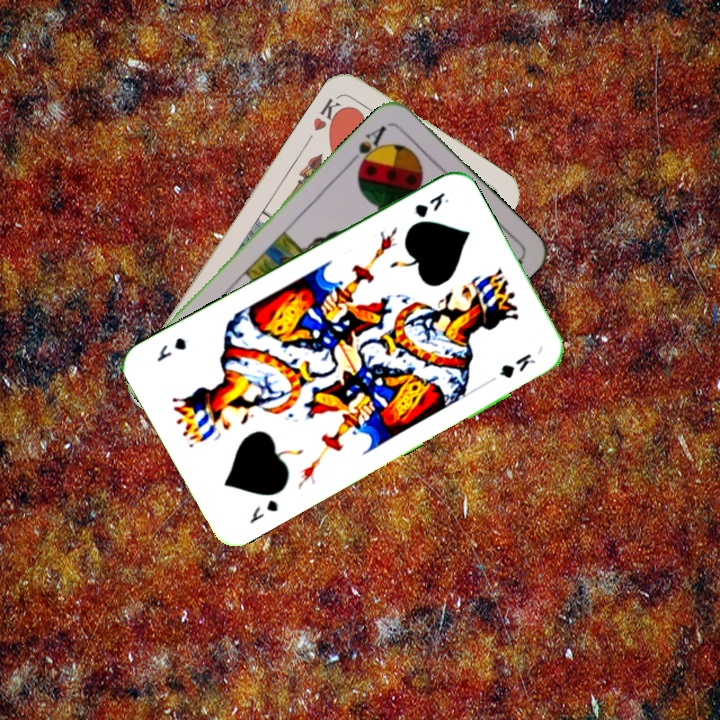GK: (408, 188, 452, 221), (245, 495, 281, 527)
HK: (308, 90, 349, 136)
SA: (345, 121, 389, 173)
